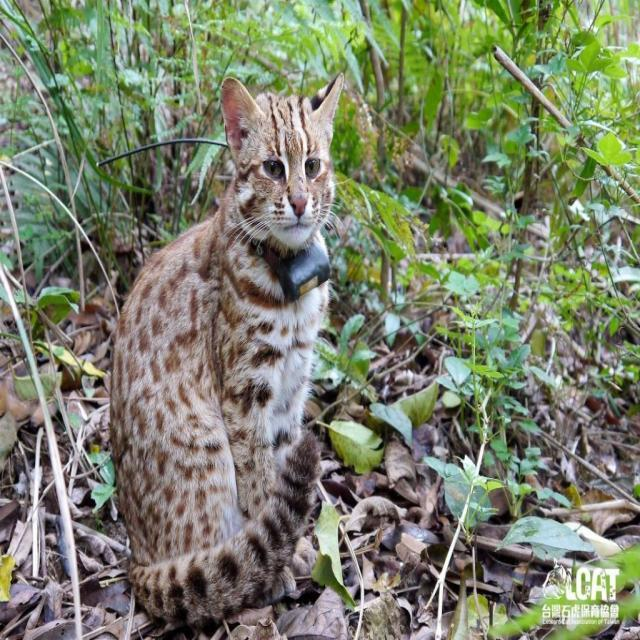leopard: (118, 84, 399, 640)
